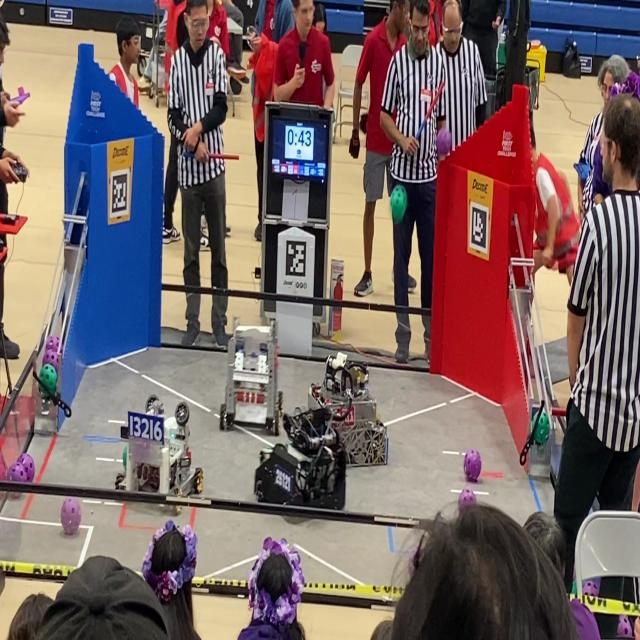artifact_green: (390, 185, 407, 223), (40, 364, 57, 396), (534, 411, 549, 445), (42, 350, 59, 372), (39, 367, 48, 398), (39, 385, 49, 399), (123, 446, 127, 471), (571, 579, 576, 595)
artifact_purple: (61, 498, 81, 535), (464, 450, 481, 482), (18, 454, 35, 482), (437, 128, 452, 156), (458, 488, 476, 510), (8, 462, 27, 482), (617, 615, 633, 638), (43, 350, 59, 373), (583, 581, 599, 597), (46, 336, 59, 351), (0, 457, 6, 481)
